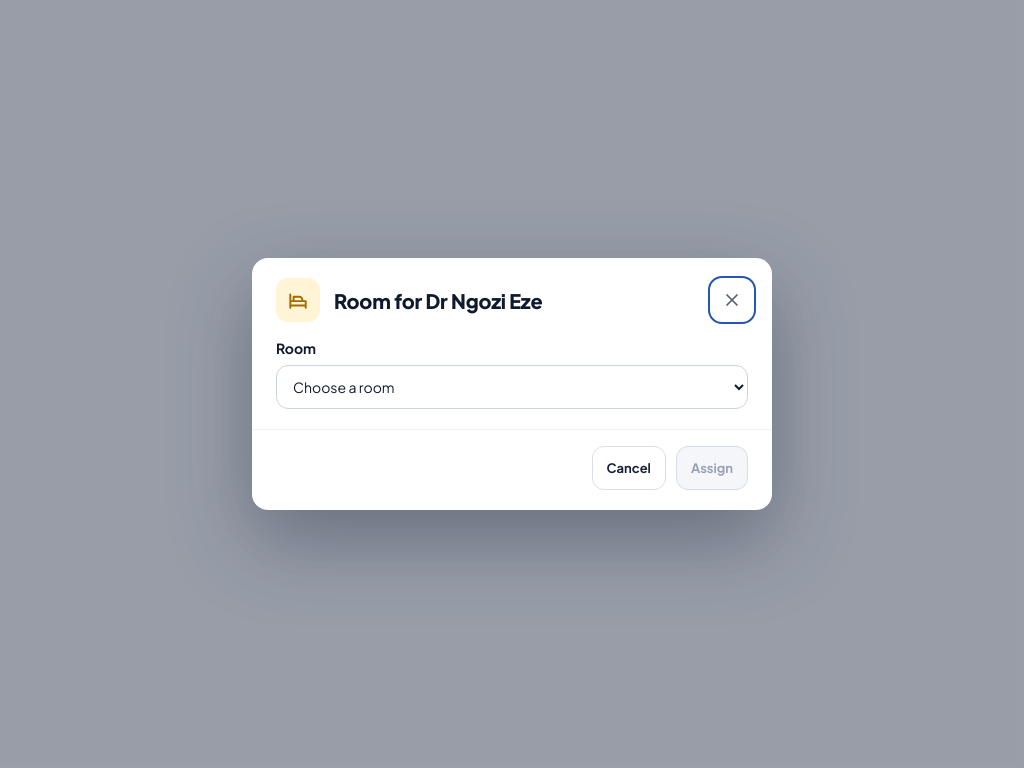
Test: MoveDialog › assigns a first room in one tap when nothing is lost
Select "412 · Executive Suite, East F4" in the dropdown labelled "Room" at (512, 387), box [276, 365, 748, 409]
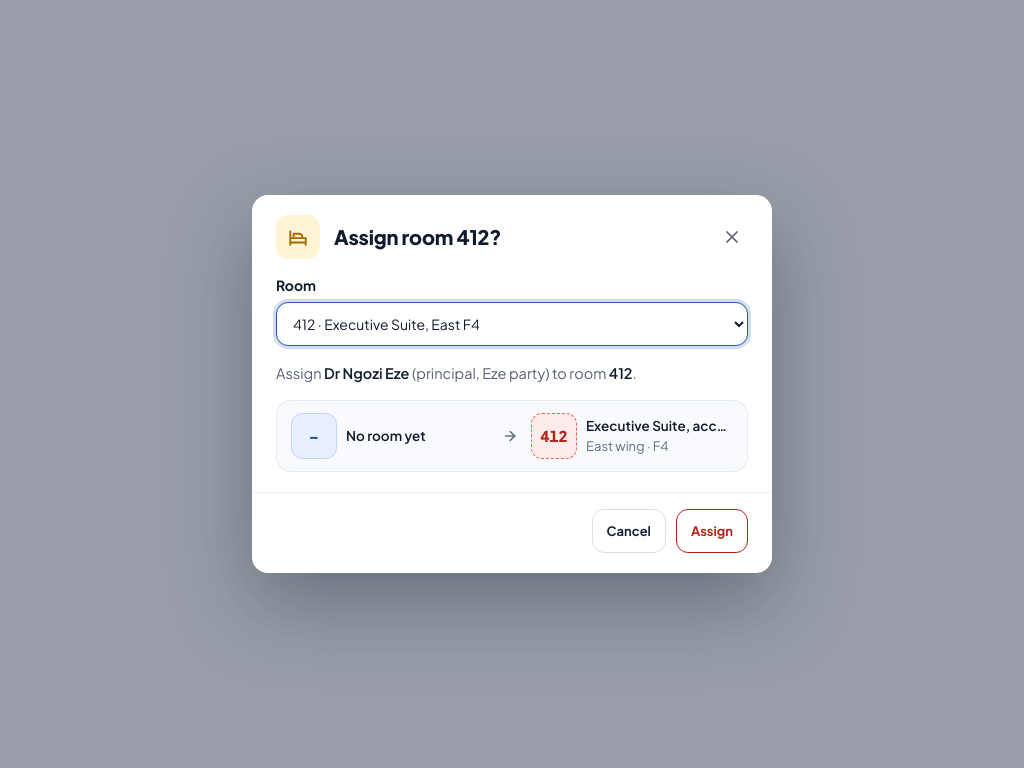
expect the heading "Assign room 412?" is shown: met, box [334, 224, 501, 249]
expect the text "No room yet" is shown: met, box [346, 427, 426, 444]
expect the text "Executive Suite, accessible" is shown: met, box [586, 416, 733, 436]
Click the button "Assign" at (712, 531), box [676, 509, 748, 553]
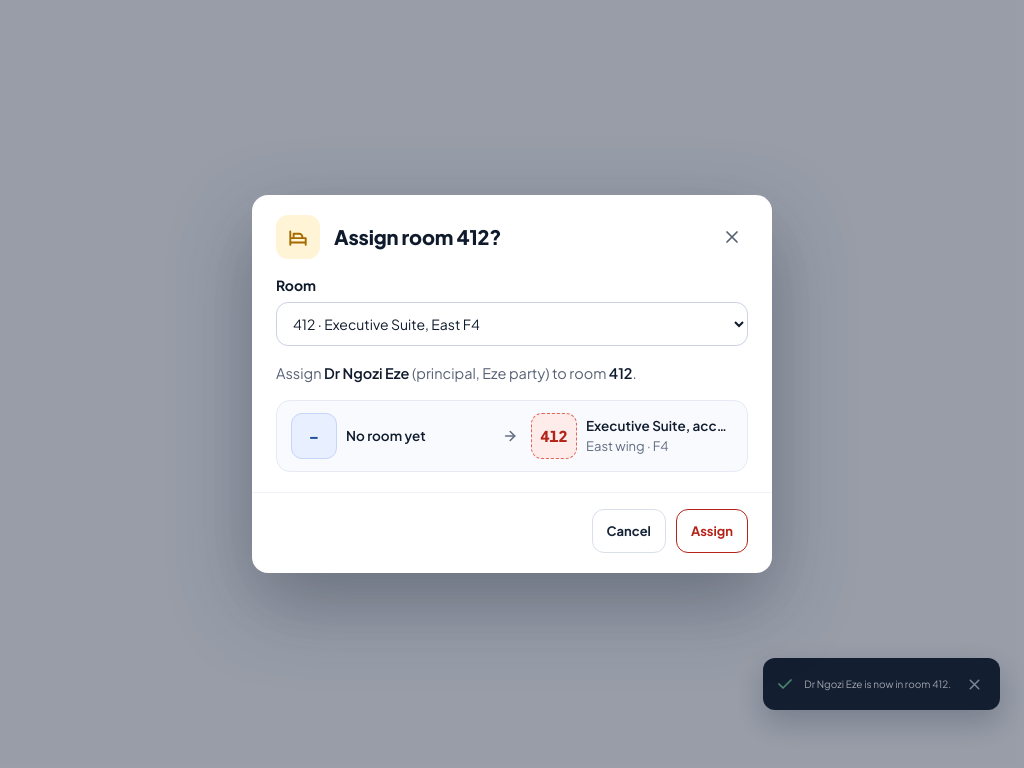
expect the text "Dr Ngozi Eze is now in room 412." is shown: met, box [804, 674, 951, 694]
